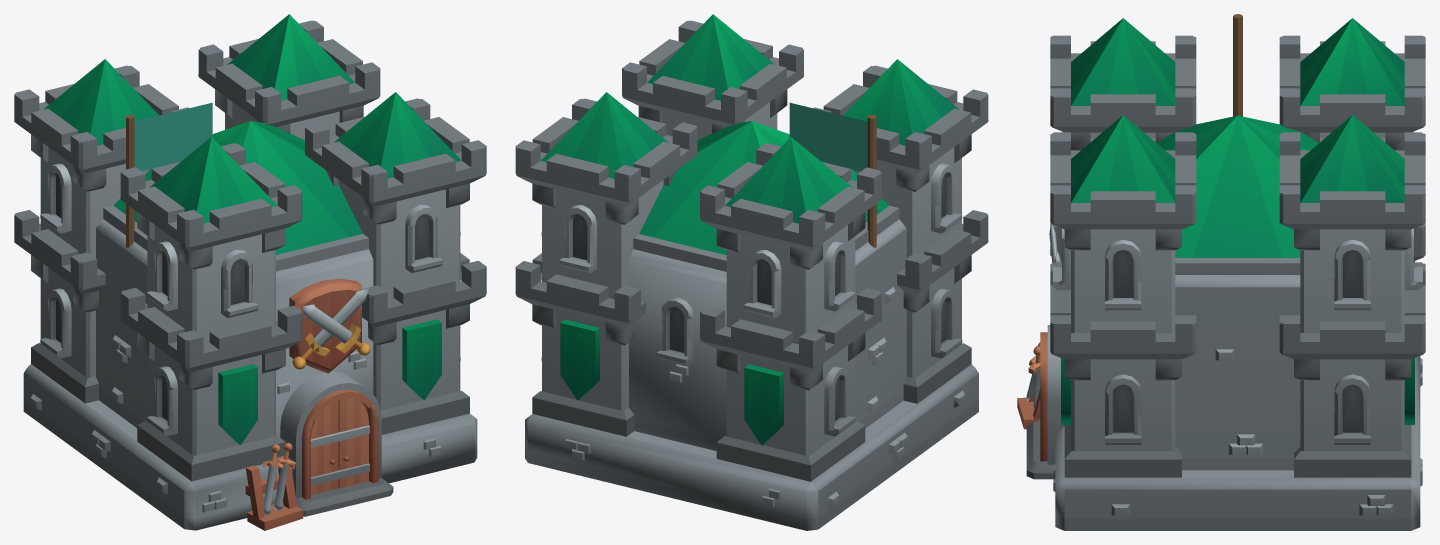
The model's file is barracks-teal.glb.
The picture shows the model from 3 angles, left to right: view 1: azimuth 30°, elevation 25°; view 2: azimuth 150°, elevation 25°; view 3: azimuth 270°, elevation 25°; orthographic projection. The views are drawn at different scales.
Visible parts, largest first — view 1: building_barracks_green, team-standard, standard-pole; view 2: building_barracks_green, team-standard, standard-pole; view 3: building_barracks_green, standard-pole.
Boxes of the visible parts, x1,y1,x2,y2 form: building_barracks_green: (14,14,486,530); team-standard: (134,102,212,171); standard-pole: (126,114,134,247); building_barracks_green: (515,14,988,530); team-standard: (789,102,867,171); standard-pole: (867,115,876,247); building_barracks_green: (1017,18,1425,530); standard-pole: (1233,14,1242,116).
Bounding box in the file's own units: 2.63 × 3 × 2.86.
5 materials, 3 textured.
